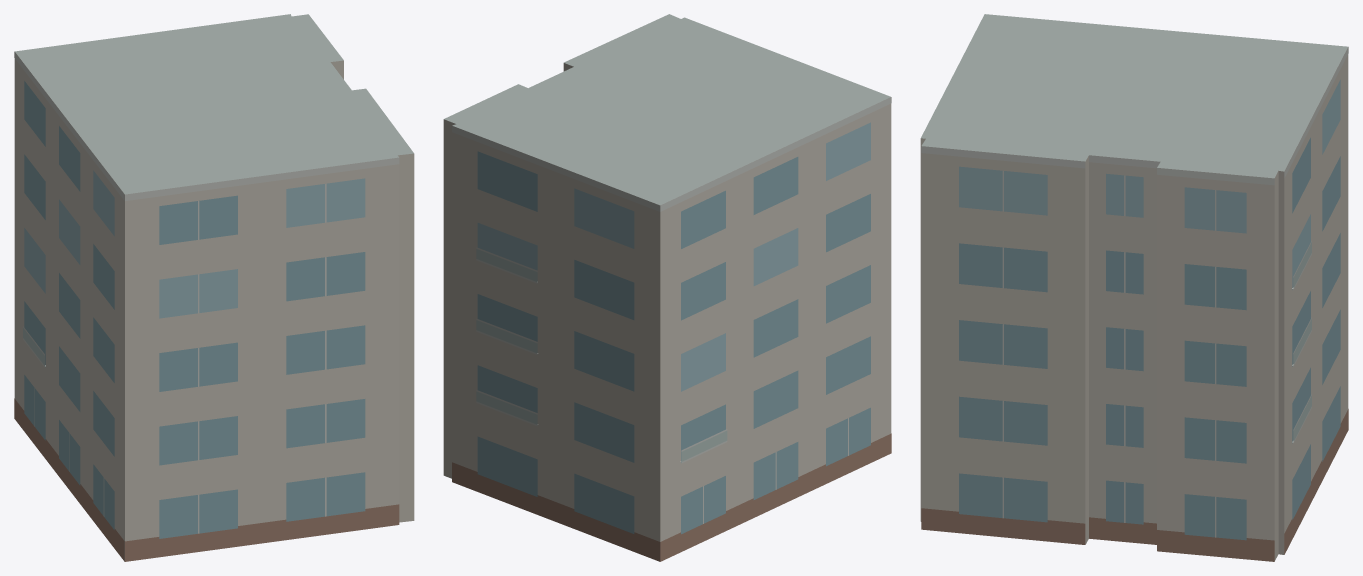
The model's file is survey-upis-32916666.glb.
3 views of the same model, side by side, from view 1: azimuth 30°, elevation 25°; view 2: azimuth 150°, elevation 25°; view 3: azimuth 270°, elevation 25° (orthographic). The views are drawn at different scales.
Visible parts, largest first — view 1: survey-upis-32916666.tmp; view 2: survey-upis-32916666.tmp; view 3: survey-upis-32916666.tmp.
Part boxes in pixels (<box>): survey-upis-32916666.tmp: <box>14,14,414,561</box>; survey-upis-32916666.tmp: <box>443,14,891,561</box>; survey-upis-32916666.tmp: <box>920,14,1348,561</box>.
Bounding box in the file's own units: 12.33 × 13.4 × 13.56.
